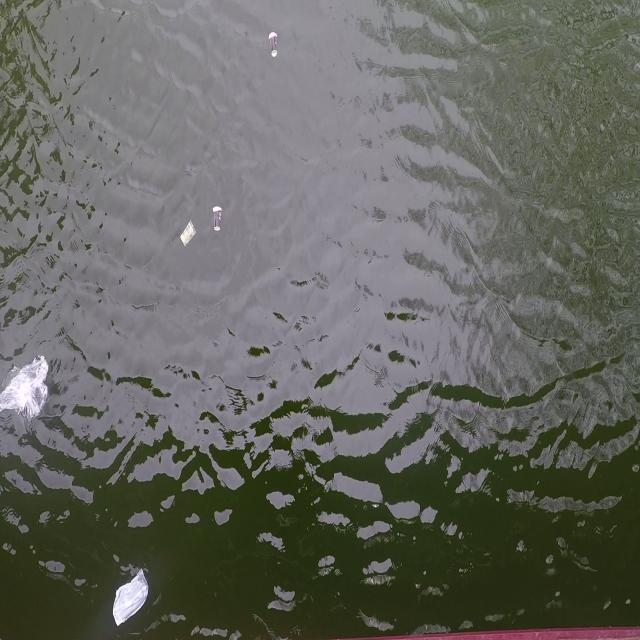Non plastique: (264, 25, 280, 61), (209, 202, 224, 238)
Sac plastique: (0, 350, 53, 434), (108, 558, 152, 635)
